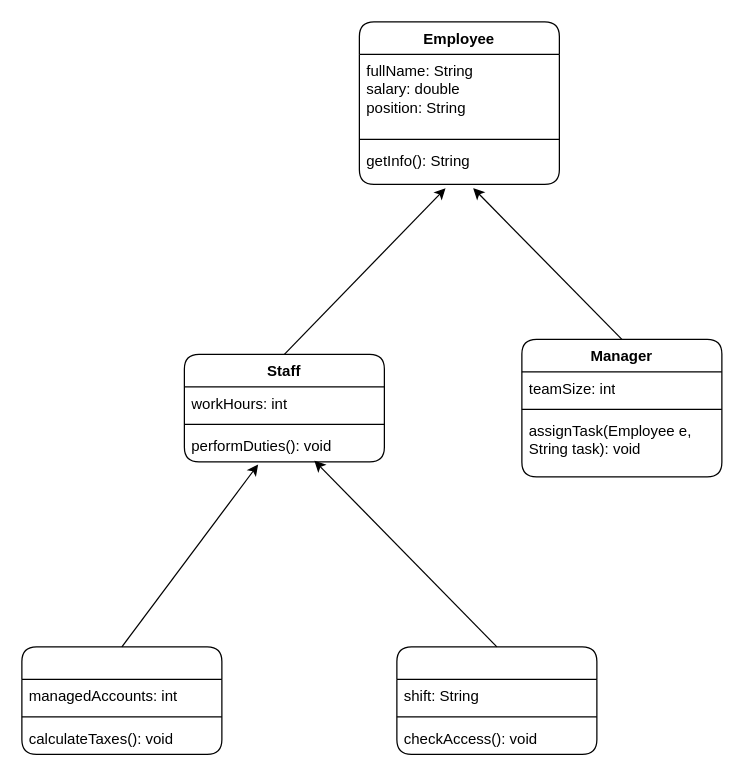
Some shapes in this 744 by 780 pixel diagram are drawn without their labels. The shapes that lost their labels are listed below. From the top down, each one's box as (x1, y1, x2, y2) in pixels, then its label:
(21, 646, 222, 754): Accountant
(396, 646, 597, 754): SecurityGuard
